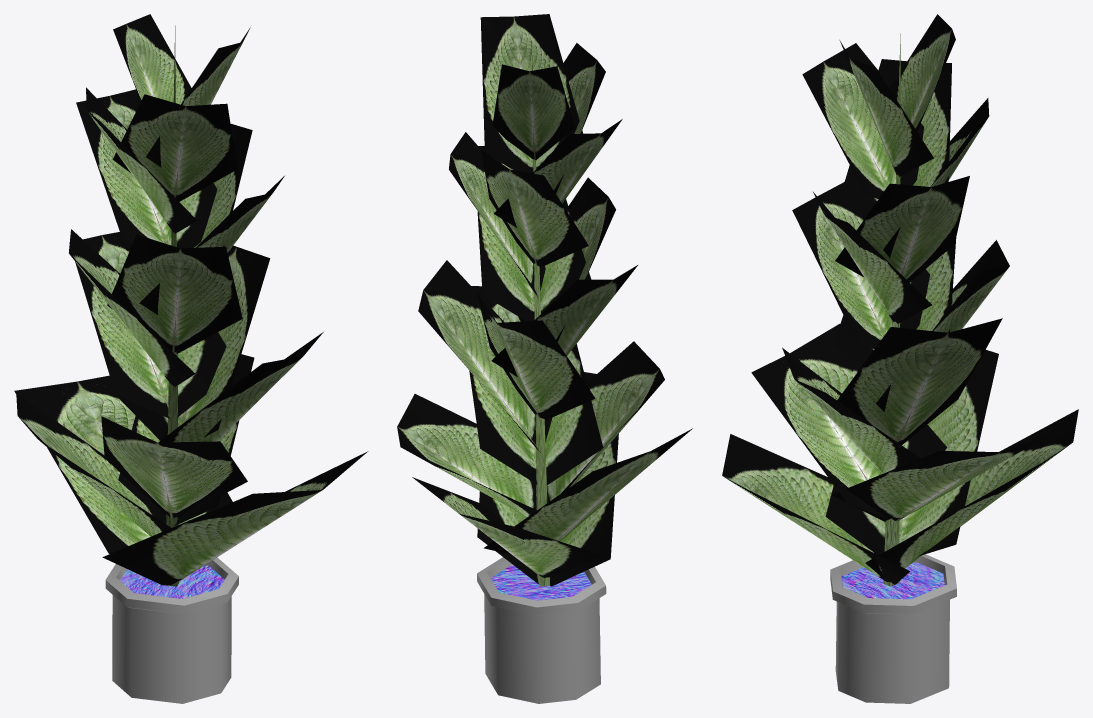
File: Indoor plant_2_fbx.fbx
3 views of the same model, side by side, from view 1: azimuth 30°, elevation 25°; view 2: azimuth 150°, elevation 25°; view 3: azimuth 270°, elevation 25° (orthographic).
Parts seen in each view (by area): view 1: Plane.000; view 2: Plane.000; view 3: Plane.000.
Part boxes in pixels (box(x1,y1,x2,y2)): Plane.000: box(14, 14, 368, 703); Plane.000: box(397, 14, 692, 703); Plane.000: box(722, 14, 1078, 703).
Bounding box in the file's own units: 1.14 × 2.63 × 1.3.
Materials: 3 (2 with a texture image).
